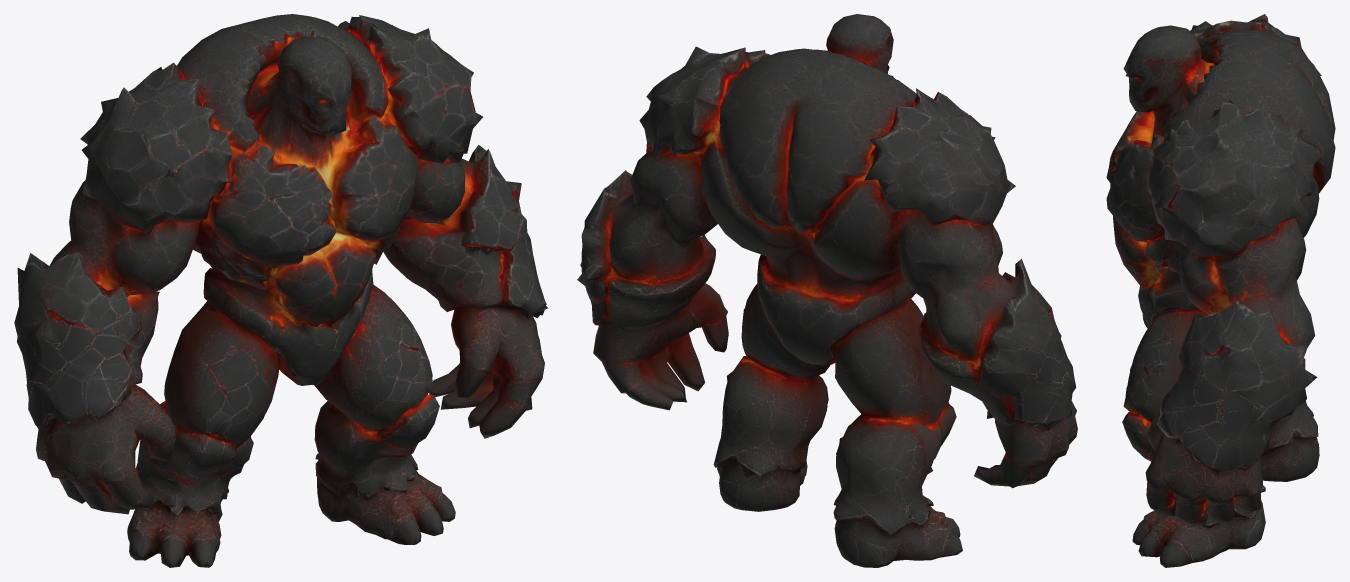
File: dd3fdc88-4fd6-49ff-955f-ed85c4085d41.glb
The picture shows the model from 3 angles, left to right: view 1: azimuth 30°, elevation 25°; view 2: azimuth 150°, elevation 25°; view 3: azimuth 270°, elevation 25°; orthographic projection. The views are drawn at different scales.
Parts seen in each view (by area): view 1: tripo_node_3b9300c2-1698-472c-9609-7ec7a8224ae1; view 2: tripo_node_3b9300c2-1698-472c-9609-7ec7a8224ae1; view 3: tripo_node_3b9300c2-1698-472c-9609-7ec7a8224ae1.
Boxes of the visible parts, x1,y1,x2,y2 form: tripo_node_3b9300c2-1698-472c-9609-7ec7a8224ae1: (14, 14, 548, 567); tripo_node_3b9300c2-1698-472c-9609-7ec7a8224ae1: (577, 14, 1077, 567); tripo_node_3b9300c2-1698-472c-9609-7ec7a8224ae1: (1106, 14, 1335, 567).
Bounding box in the file's own units: 0.9798 × 0.9482 × 0.4132.
1 material, 1 textured.
